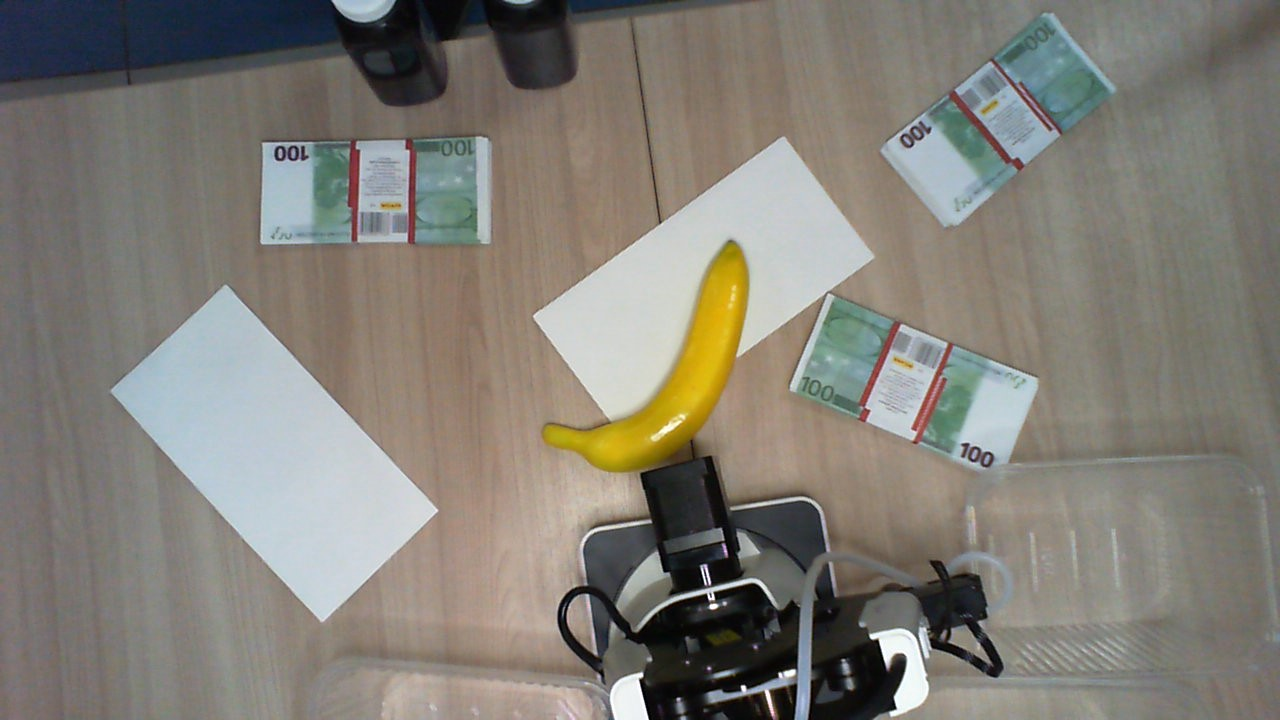banana: (544, 238, 753, 473)
bottle: (333, 1, 425, 34)
convert: (112, 281, 447, 628), (531, 134, 876, 447)
money: (881, 11, 1114, 230), (789, 292, 1039, 480), (258, 135, 493, 249)
